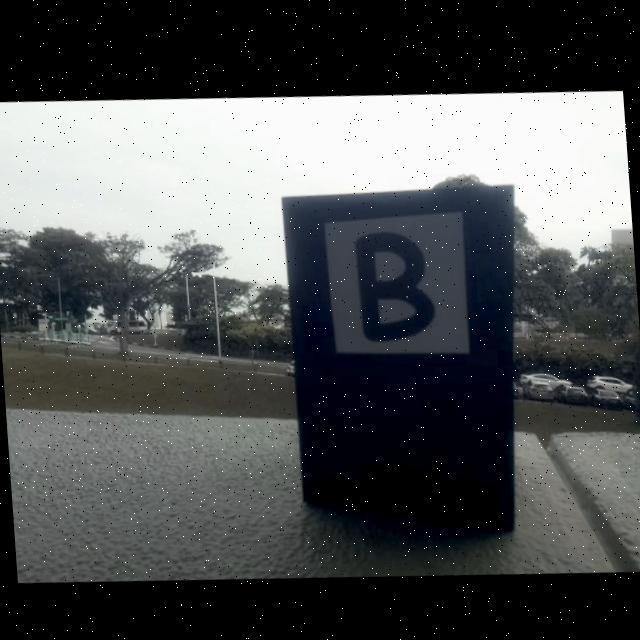B: (354, 228, 434, 337)
